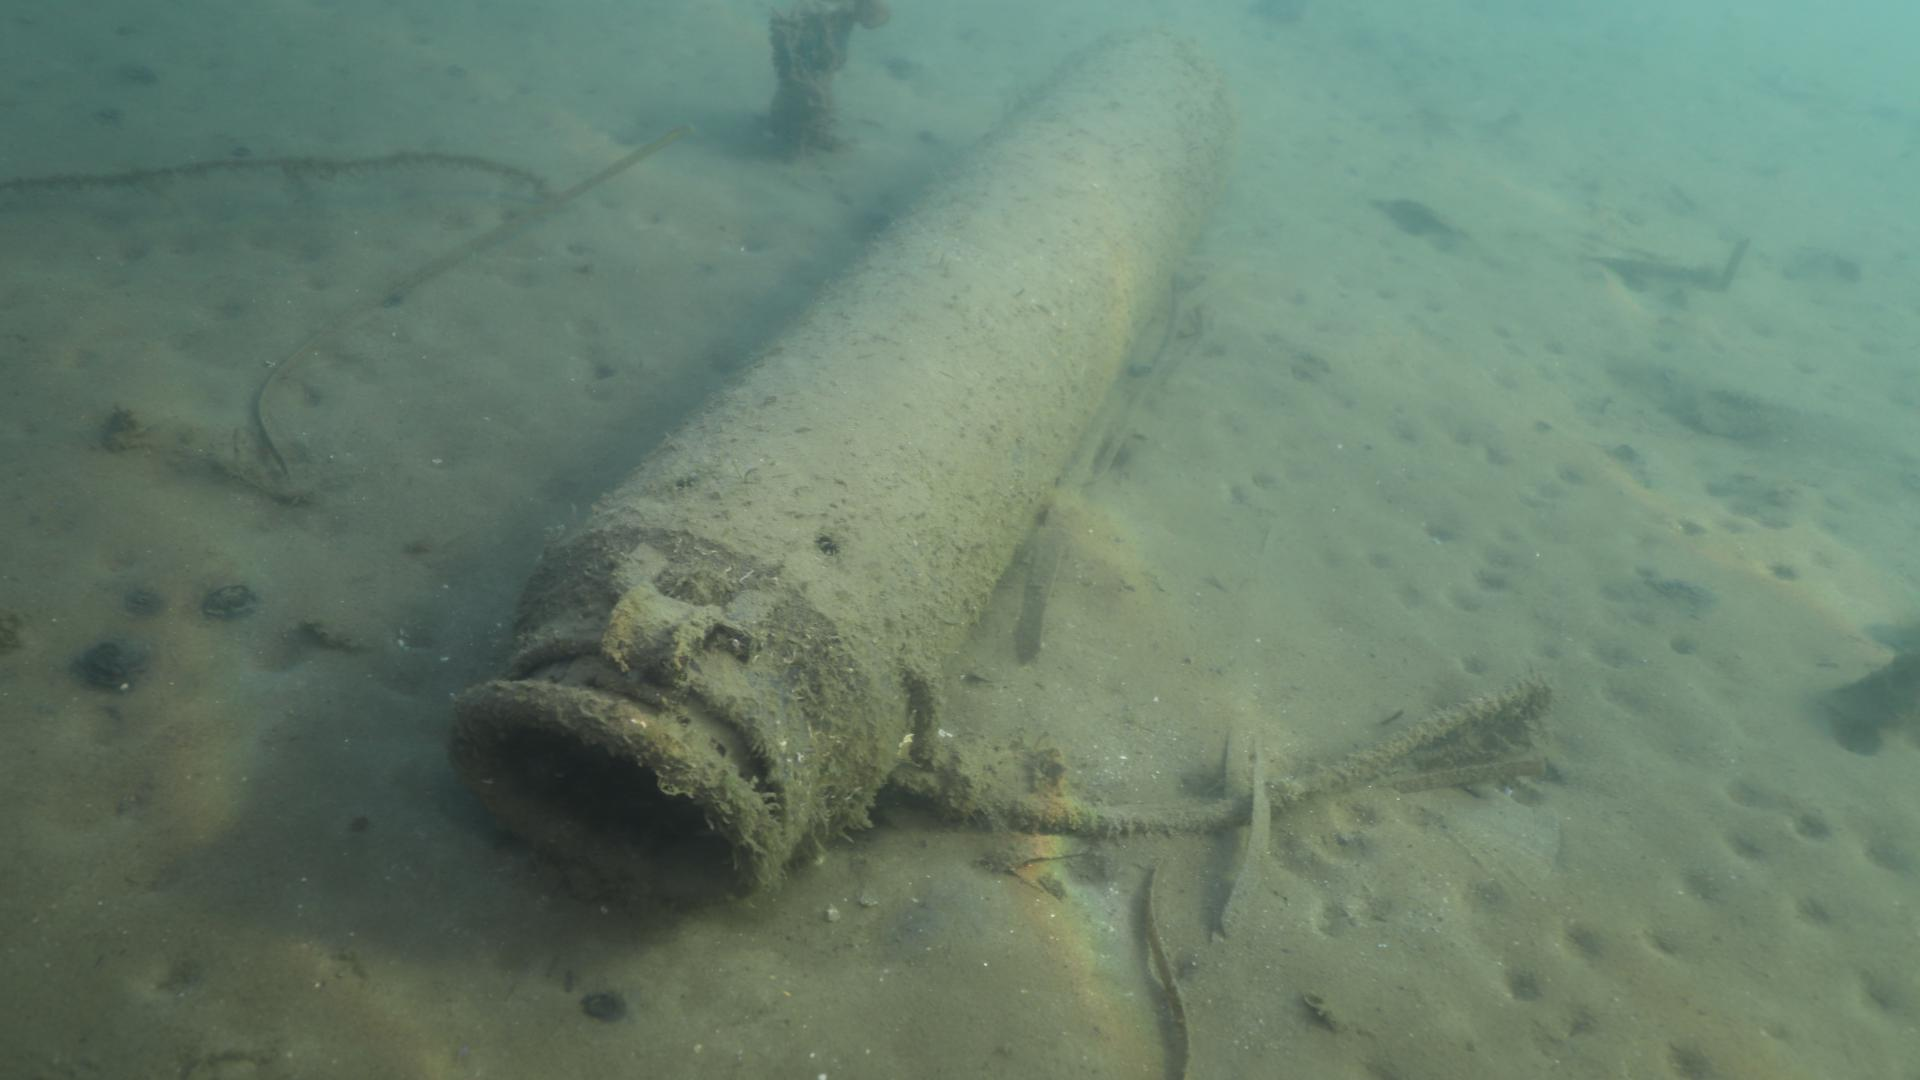eel fish trap: (443, 26, 1233, 913)
